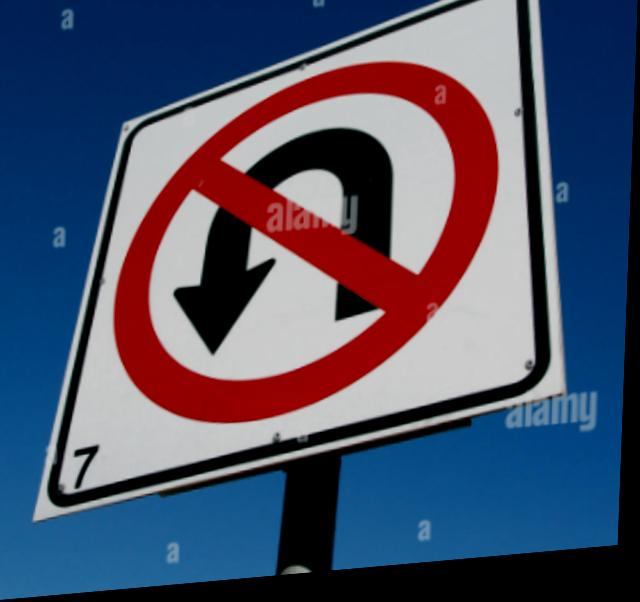not_u_turn_left: (125, 56, 519, 456)
